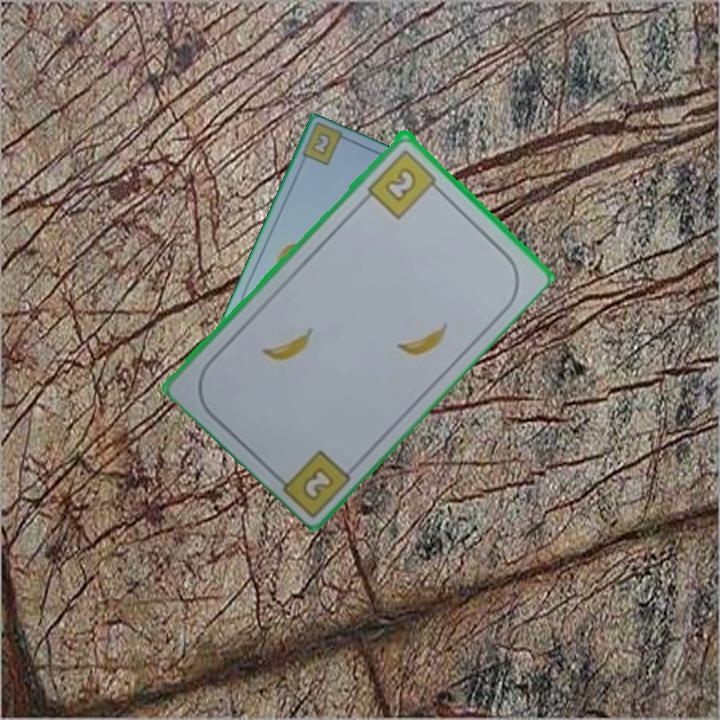2b: (364, 145, 444, 221), (301, 463, 338, 501), (308, 129, 334, 158)
